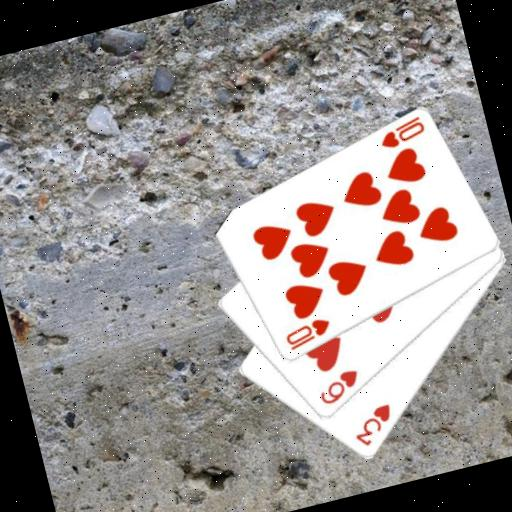10H: (373, 113, 429, 154), (280, 314, 337, 354)
3H: (345, 400, 400, 451)
6H: (312, 365, 366, 409)
